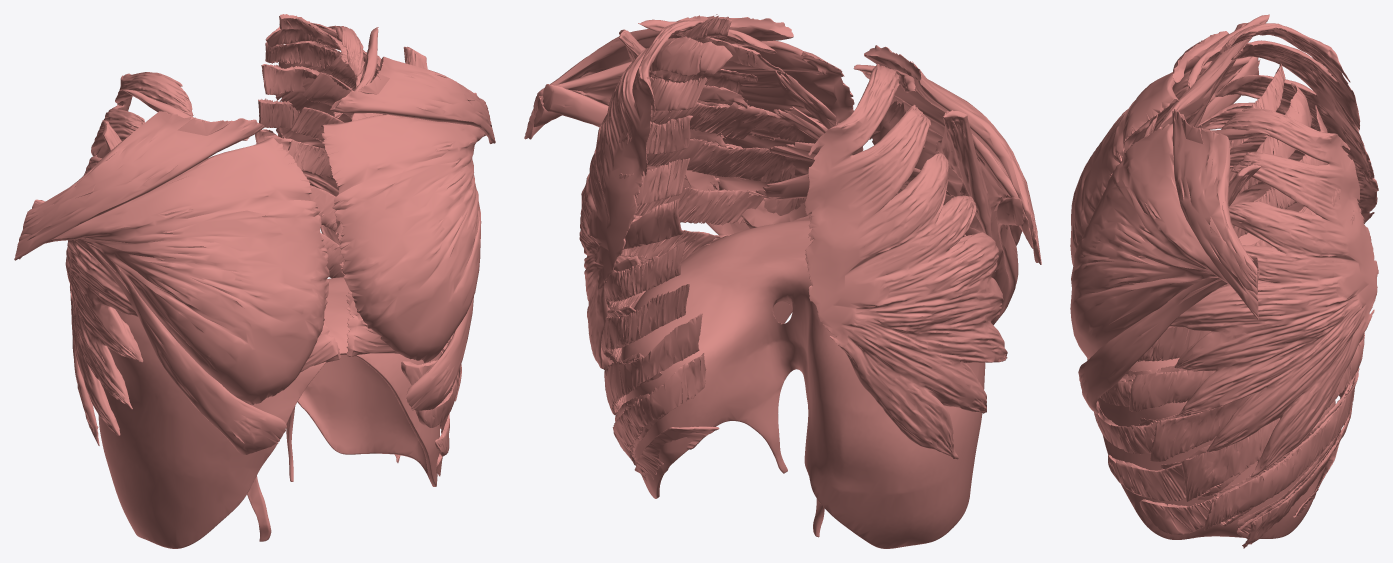
File: muscles-thorax.hi.glb
3 renders of one model, left to right at view 1: azimuth 30°, elevation 25°; view 2: azimuth 150°, elevation 25°; view 3: azimuth 270°, elevation 25°, orthographic. The views are drawn at different scales.
Visible parts, largest first — view 1: FJ1464, FJ3131, FJ1464M, FJ1459, FJ1447, FJ1446, FJ1447M, FJ1451M, FJ1454M, FJ1459M, FJ1446M, FJ1455M (+3 smaller); view 2: FJ3131, FJ1459, FJ1451M, FJ1459M, FJ1454M, FJ1464M, FJ1464, FJ1447, FJ1455M, FJ1461M, FJ1447M, FJ1456 (+5 smaller); view 3: FJ1459M, FJ1451M, FJ1464M, FJ1459, FJ1447M, FJ1455M, FJ3131, FJ1464, FJ1446M, FJ1454M, FJ1456, FJ1447 (+4 smaller).
Boxes of the visible parts, x1=… form: FJ1464: x1=39, y1=137, x2=329, y2=404; FJ3131: x1=98, y1=277, x2=441, y2=548; FJ1464M: x1=321, y1=114, x2=486, y2=362; FJ1459: x1=65, y1=72, x2=192, y2=445; FJ1447: x1=14, y1=111, x2=264, y2=260; FJ1446: x1=32, y1=199, x2=286, y2=454; FJ1447M: x1=330, y1=56, x2=495, y2=143; FJ1451M: x1=255, y1=14, x2=461, y2=462; FJ1454M: x1=288, y1=54, x2=450, y2=392; FJ1459M: x1=275, y1=25, x2=442, y2=353; FJ1446M: x1=406, y1=92, x2=476, y2=411; FJ1455M: x1=295, y1=73, x2=459, y2=476; FJ3131: x1=621, y1=220, x2=985, y2=548; FJ1459: x1=804, y1=64, x2=1007, y2=459; FJ1451M: x1=601, y1=17, x2=784, y2=465; FJ1459M: x1=579, y1=20, x2=715, y2=370; FJ1454M: x1=607, y1=102, x2=781, y2=462; FJ1464M: x1=533, y1=40, x2=863, y2=228; FJ1464: x1=853, y1=64, x2=1033, y2=270; FJ1447: x1=864, y1=45, x2=1041, y2=264; FJ1455M: x1=608, y1=102, x2=839, y2=480; FJ1461M: x1=747, y1=70, x2=837, y2=221; FJ1447M: x1=524, y1=14, x2=793, y2=139; FJ1456: x1=935, y1=110, x2=992, y2=238; FJ1459M: x1=1170, y1=108, x2=1378, y2=477; FJ1451M: x1=1129, y1=63, x2=1364, y2=548; FJ1464M: x1=1070, y1=123, x2=1260, y2=359; FJ1459: x1=1196, y1=23, x2=1378, y2=223; FJ1447M: x1=1172, y1=109, x2=1258, y2=320; FJ1455M: x1=1087, y1=161, x2=1354, y2=538; FJ3131: x1=1098, y1=233, x2=1335, y2=539; FJ1464: x1=1070, y1=56, x2=1260, y2=265; FJ1446M: x1=1078, y1=256, x2=1258, y2=414; FJ1454M: x1=1119, y1=159, x2=1352, y2=527; FJ1456: x1=1157, y1=22, x2=1252, y2=140; FJ1447: x1=1172, y1=31, x2=1247, y2=83.
Bounding box in the file's own units: 0.3885 × 0.3795 × 0.2246.
